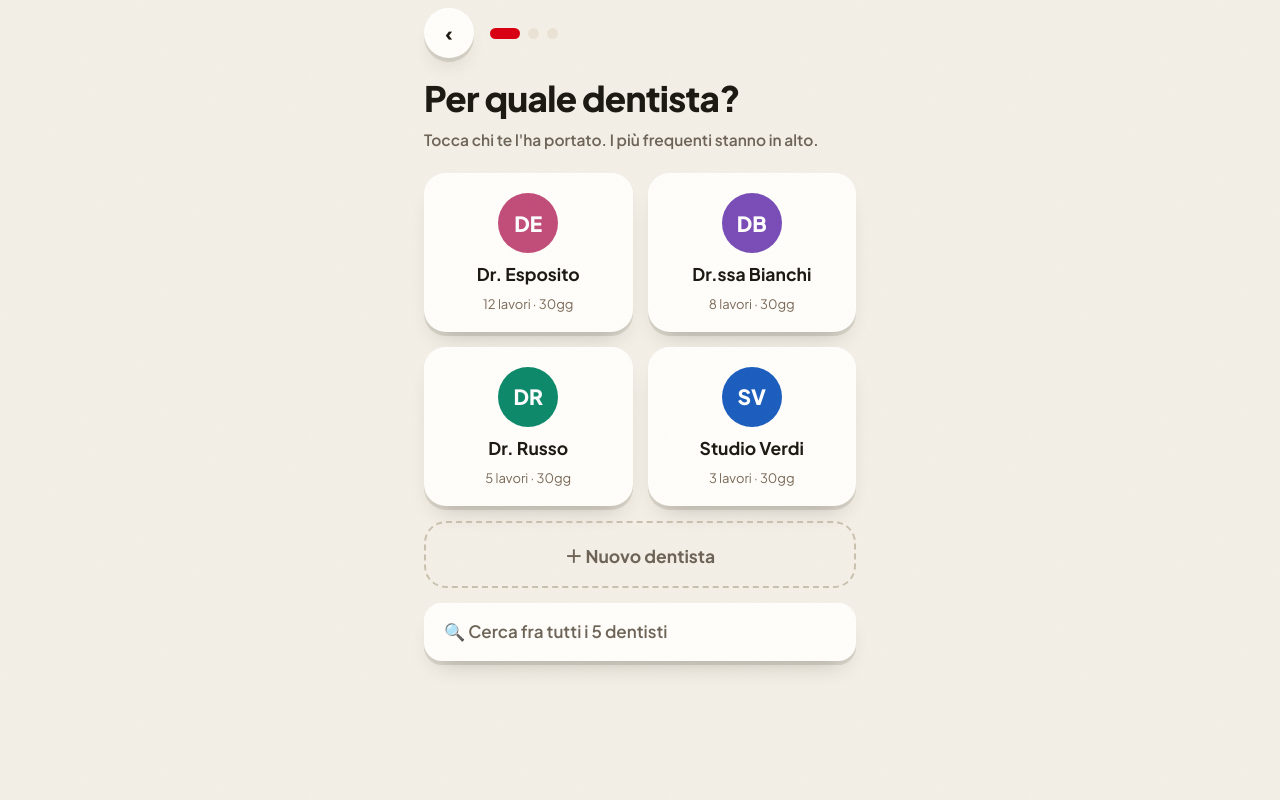
it: WizardNuovoLavoro — shell + Passo 1 dentisti (Task 8) › tap su un tile dentista → avanza al Passo 2 ("Che lavoro è?")
This screenshot has width=1280, height=800.
Click the button "DE Dr. Esposito 12 lavori · 30gg": click(528, 252) [424, 173, 632, 332]
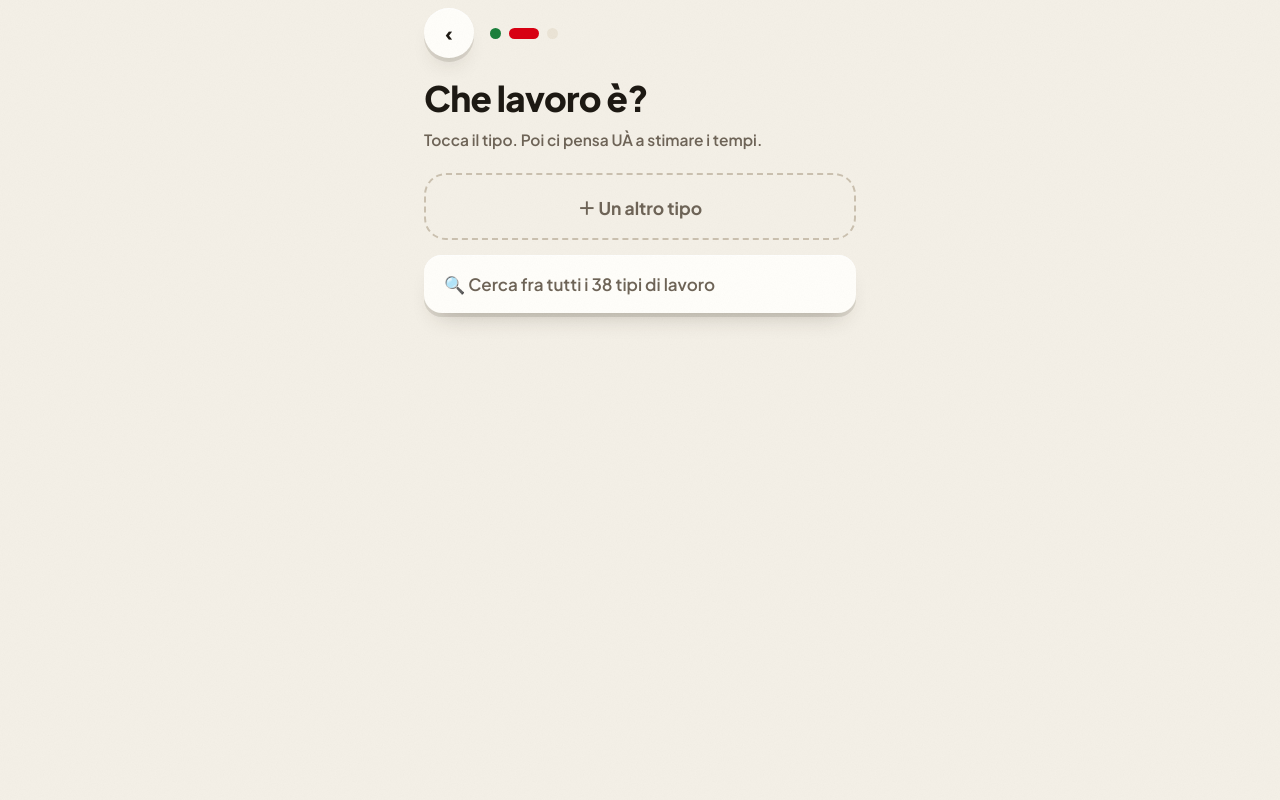
Result: the heading "Che lavoro è?" is shown at [424, 76, 648, 120]
